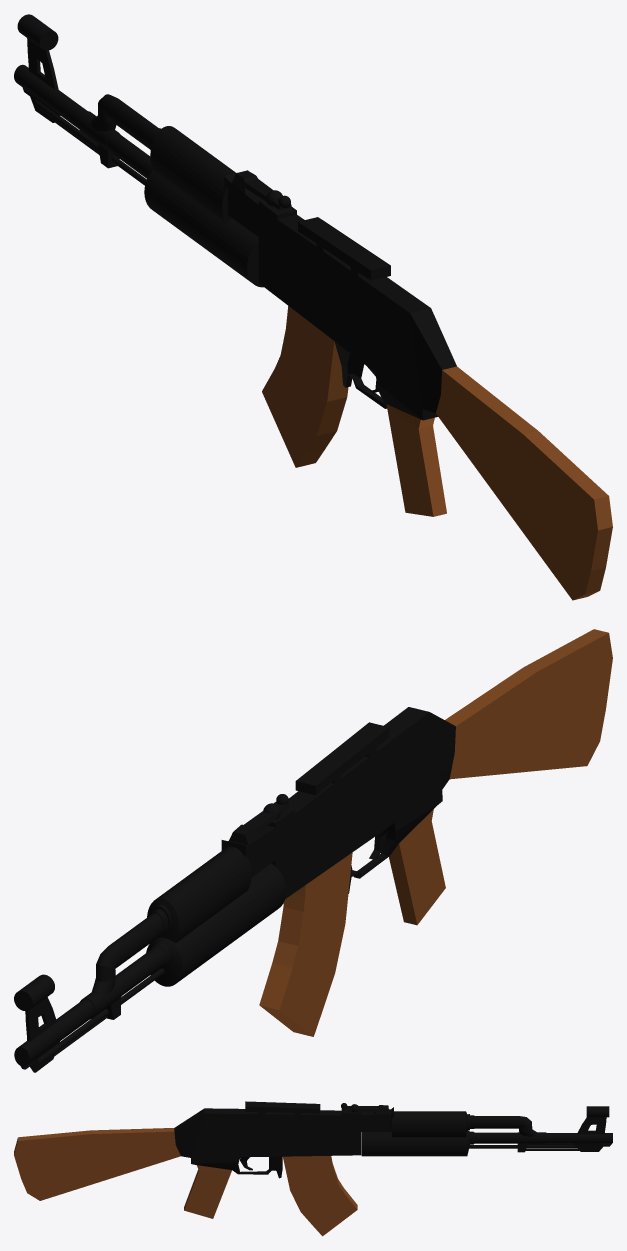
Rendered from Assualt_Rifle.fbx.
3 renders of one model, top to bottom at view 1: azimuth 30°, elevation 25°; view 2: azimuth 150°, elevation 25°; view 3: azimuth 270°, elevation 25°, orthographic. The views are drawn at different scales.
Parts seen in each view (by area): view 1: Cube; view 2: Cube; view 3: Cube.
Part boxes in pixels (x1=…): Cube: x1=14, y1=14, x2=612, y2=600; Cube: x1=14, y1=629, x2=612, y2=1072; Cube: x1=14, y1=1101, x2=612, y2=1236.
Size of the model in its own units: 59.49 by 390 by 1620.
